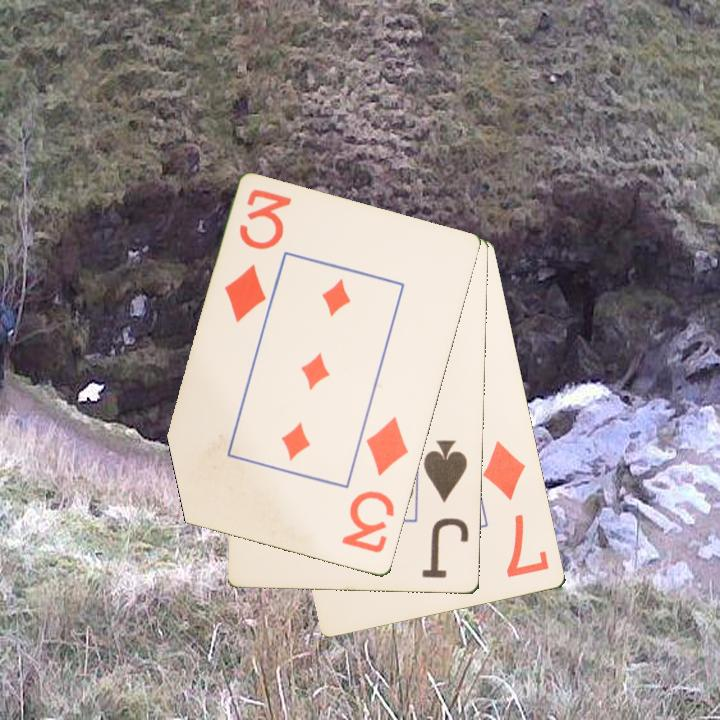3d: (338, 413, 412, 557), (221, 186, 295, 326)
7d: (479, 437, 553, 581)
Js: (419, 437, 472, 582)
